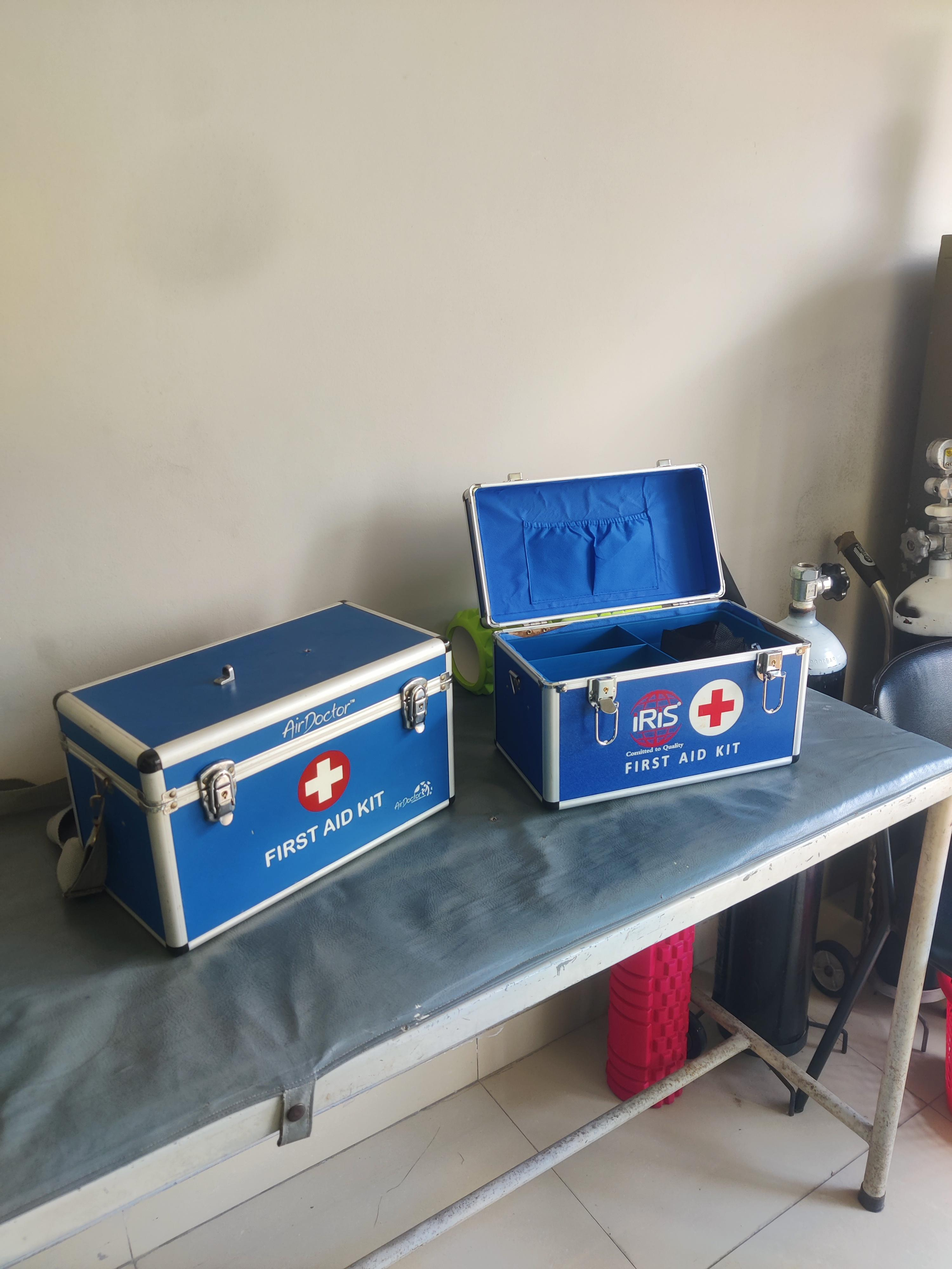FirstAidBox: (35, 590, 461, 974), (459, 464, 845, 821)
